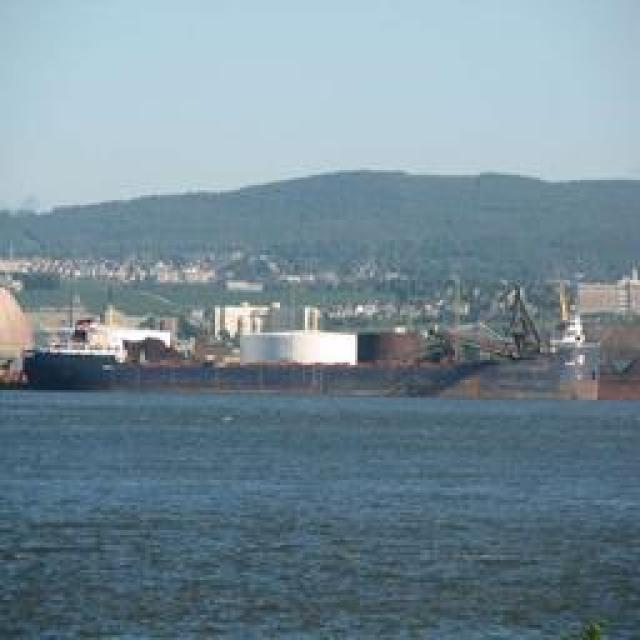ship2: (25, 317, 473, 398)
